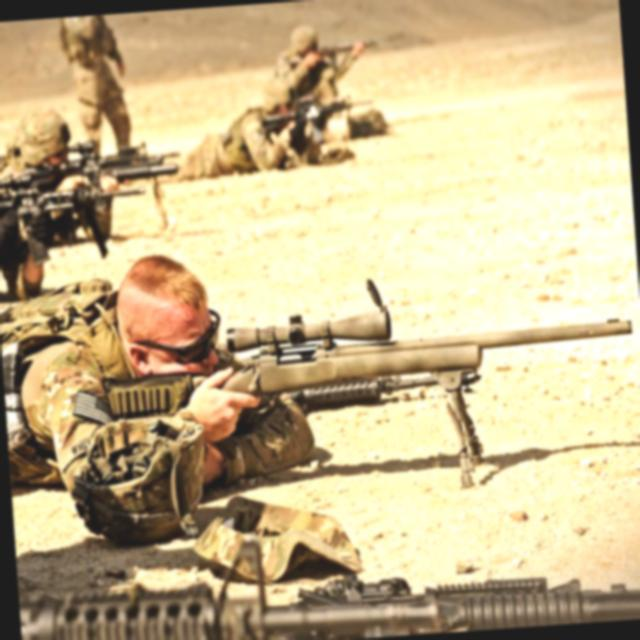rifle: (79, 271, 640, 439), (15, 508, 640, 640), (0, 156, 141, 247), (61, 126, 196, 192), (258, 86, 383, 136)
